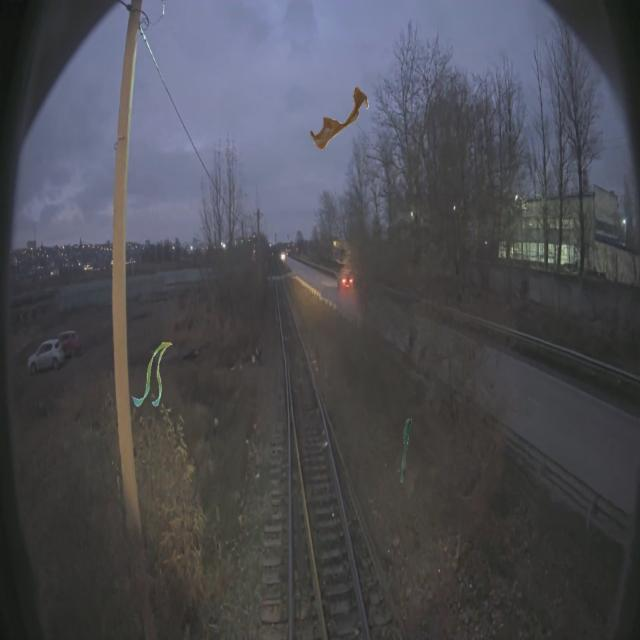floating object: (310, 86, 369, 150), (132, 342, 174, 407), (400, 418, 412, 482)
